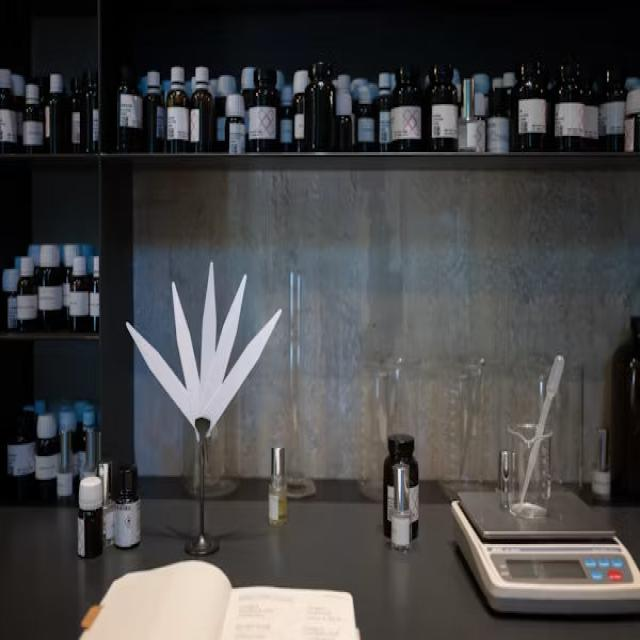Bottle: (611, 317, 639, 499), (382, 434, 419, 537), (512, 61, 547, 151), (304, 61, 335, 151), (555, 58, 584, 151), (8, 410, 36, 502), (248, 68, 279, 151), (392, 68, 422, 151), (430, 64, 458, 151), (38, 245, 65, 331), (117, 64, 142, 153), (600, 68, 626, 151), (35, 413, 59, 502), (190, 68, 215, 153), (458, 79, 486, 153), (78, 477, 103, 558), (116, 464, 140, 548), (45, 74, 70, 153), (332, 74, 359, 147), (167, 66, 189, 153), (143, 71, 166, 153), (502, 64, 523, 151), (391, 463, 411, 551), (57, 410, 75, 505), (59, 408, 78, 495), (16, 256, 37, 332), (69, 256, 90, 332), (215, 76, 236, 151), (80, 71, 99, 153), (487, 87, 510, 153), (581, 69, 599, 151), (99, 461, 116, 547), (0, 69, 17, 153), (268, 447, 286, 526), (356, 85, 377, 151), (23, 84, 43, 153), (293, 69, 309, 151), (62, 244, 79, 321), (376, 72, 392, 151), (226, 95, 246, 155), (334, 90, 353, 151), (83, 405, 99, 476), (73, 400, 87, 478), (11, 74, 25, 150), (2, 269, 19, 331), (70, 77, 83, 153), (624, 88, 639, 151), (280, 85, 294, 151), (346, 76, 367, 119), (546, 77, 558, 151), (242, 68, 255, 135), (473, 74, 491, 121), (89, 256, 100, 332), (27, 244, 40, 279), (453, 68, 461, 107), (34, 399, 46, 417), (276, 69, 284, 94), (210, 79, 217, 100)
